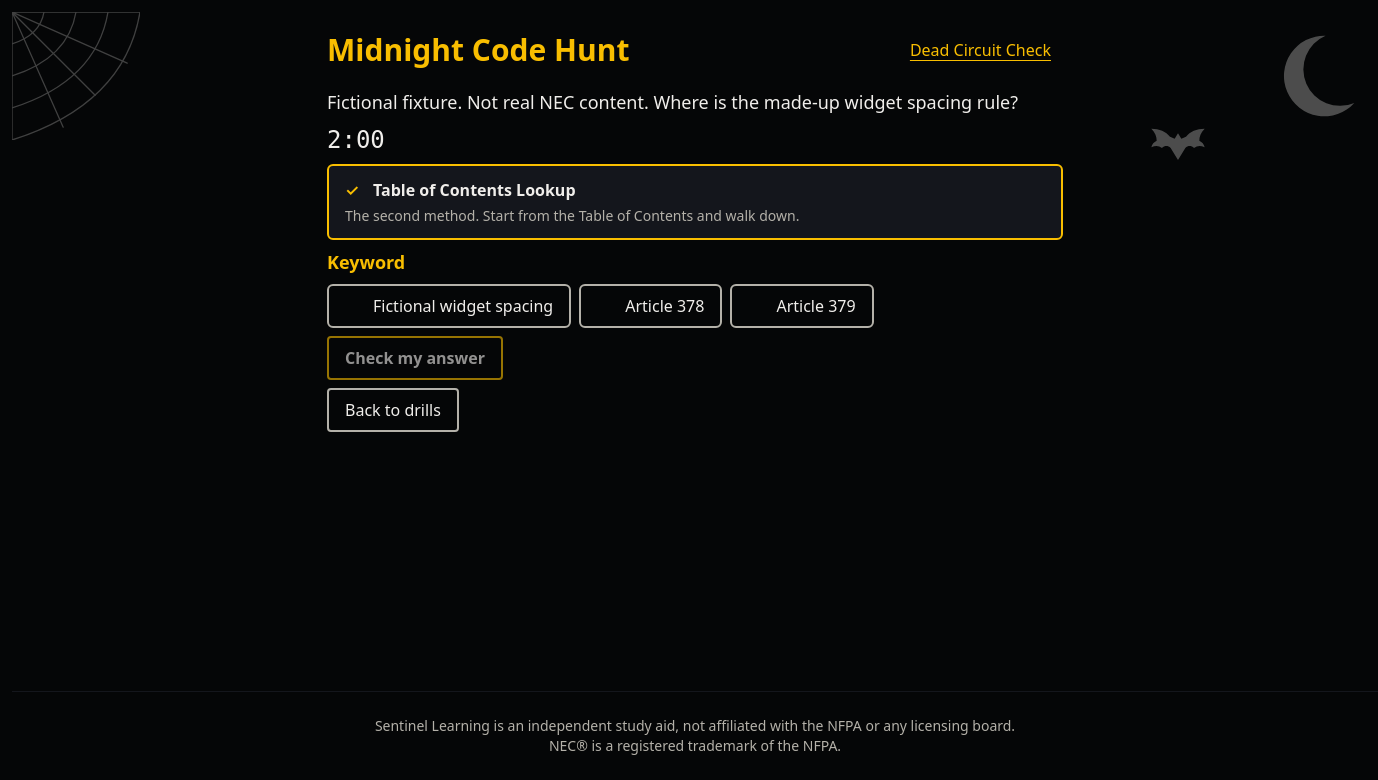
DrillScreen grading: Keyword_Pick › correct Keyword_Pick with a wrong path: keyword correct, overall incorrect, no best time
Click the button "Fictional widget spacing": (449, 306) 327,284 -> 571,328
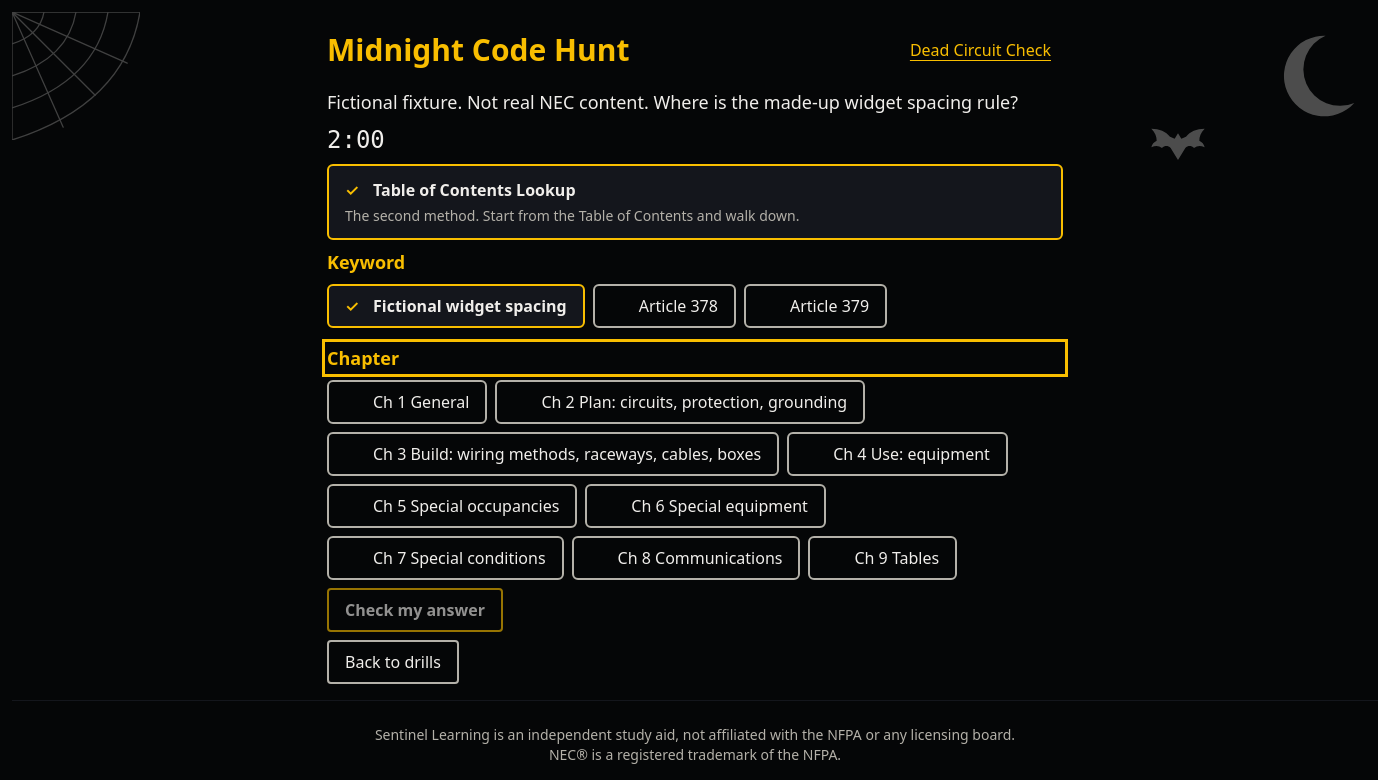
Click the button "Ch 3 Build: wiring methods, raceways, cables, boxes": (553, 454) 327,432 -> 779,476
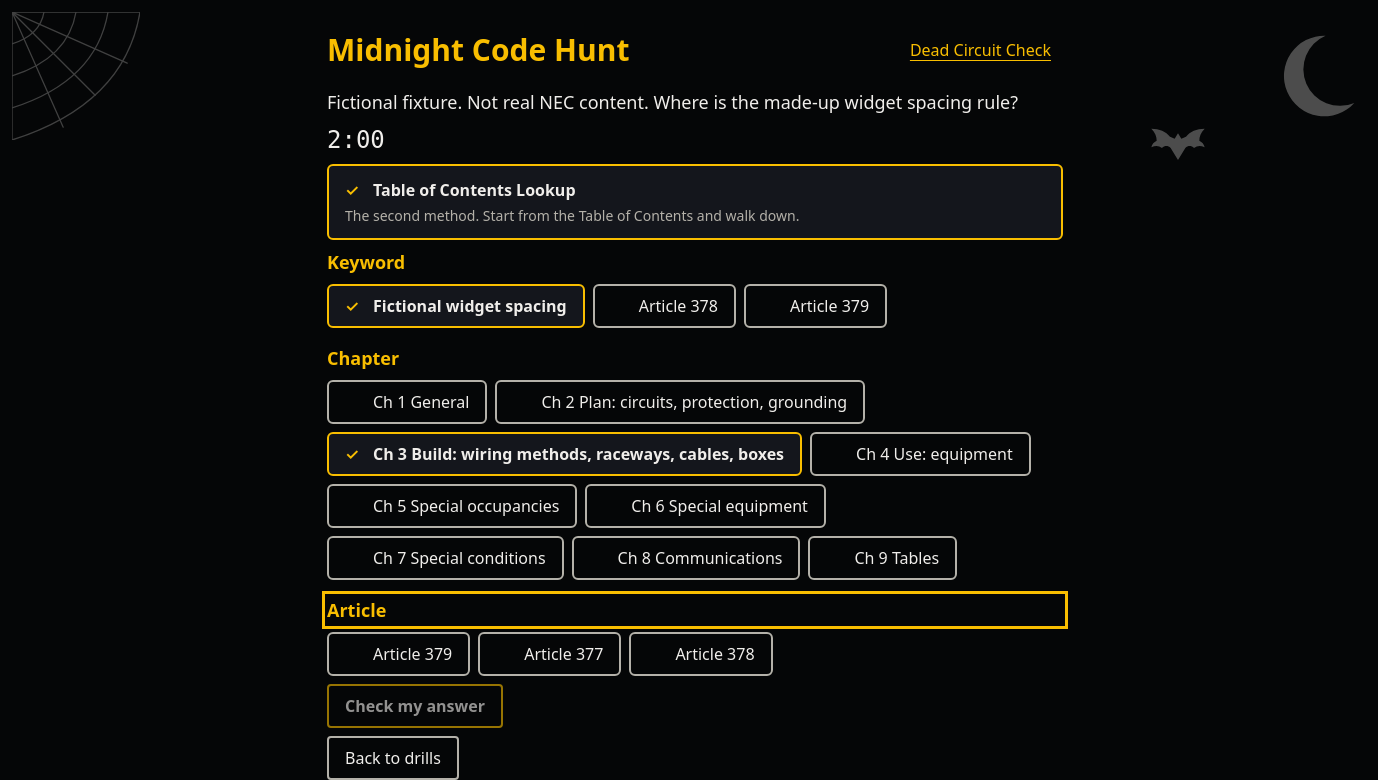
Click the 2nd button "Article 378": (701, 654) 629,632 -> 773,676
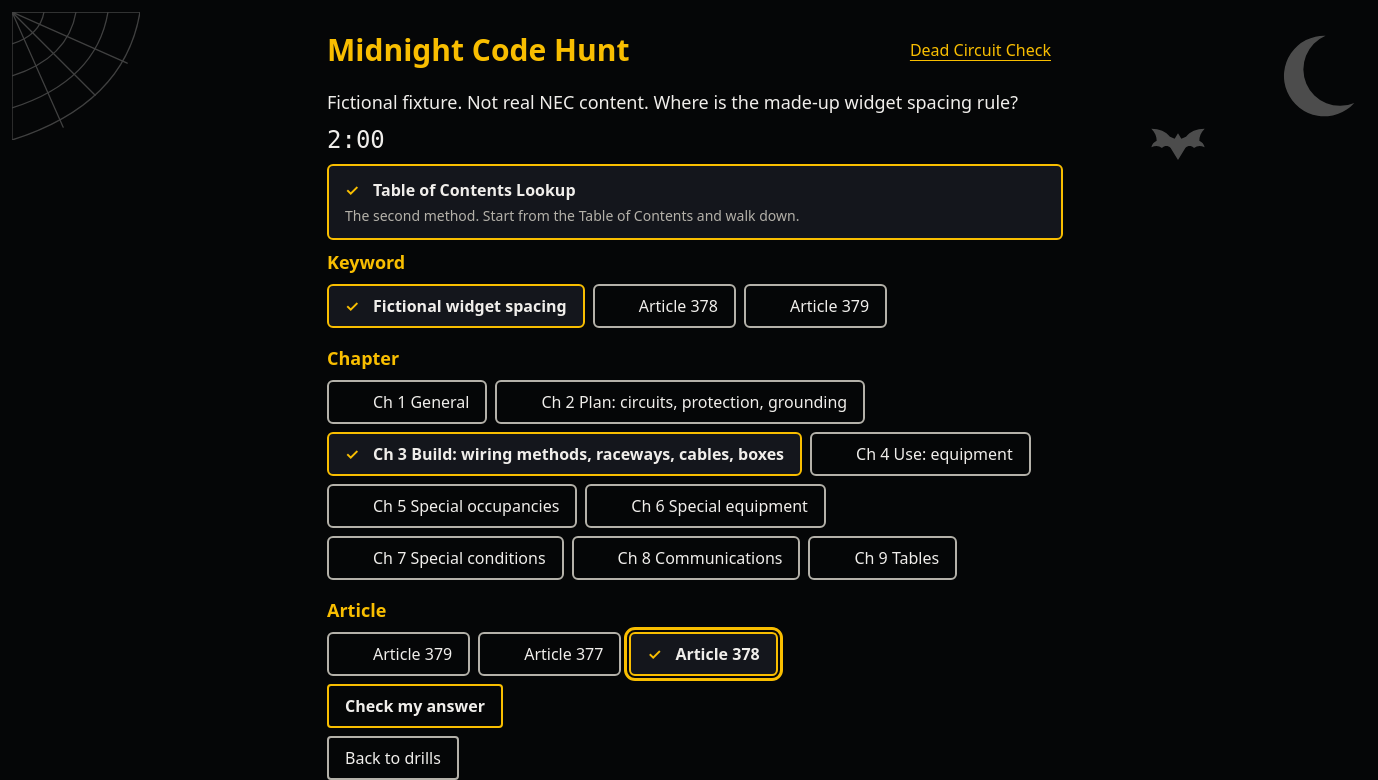
Click the button "Check my answer": (415, 706) 327,684 -> 503,728
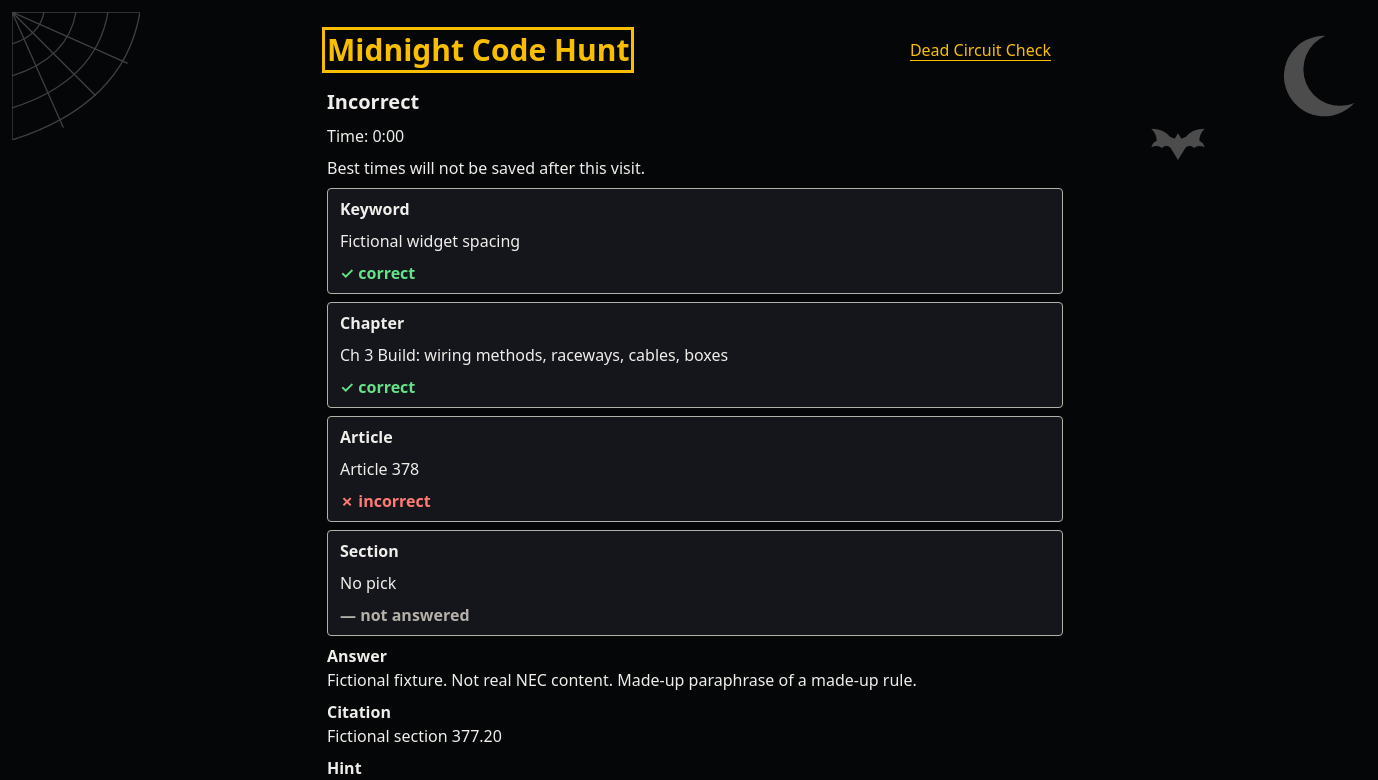
Now the text "Incorrect" is shown, box 327,88 -> 419,115
